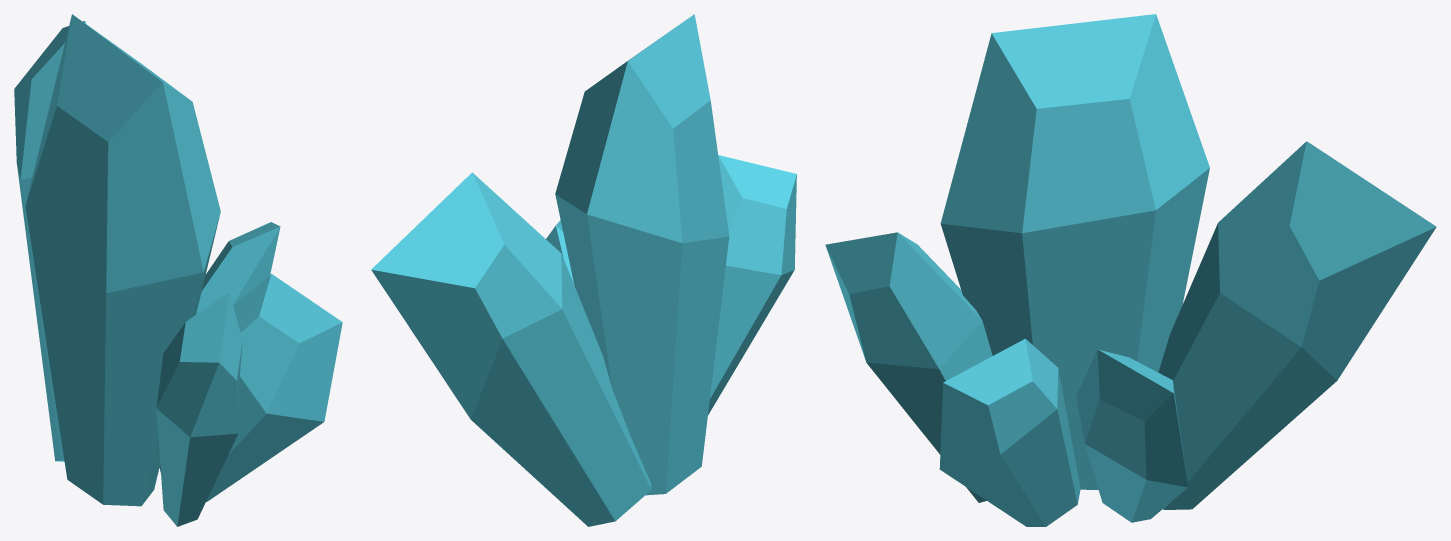
File: AP-Kristall.fbx
3 renders of one model, left to right at view 1: azimuth 30°, elevation 25°; view 2: azimuth 150°, elevation 25°; view 3: azimuth 270°, elevation 25°, orthographic. The views are drawn at different scales.
Visible parts, largest first — view 1: Cube.001; view 2: Cube.001; view 3: Cube.001.
Part boxes in pixels (x1,y1,x2,y2): Cube.001: (14, 14, 342, 526); Cube.001: (371, 14, 796, 526); Cube.001: (825, 14, 1436, 526).
Bounding box in the file's own units: 436 × 753 × 862.
